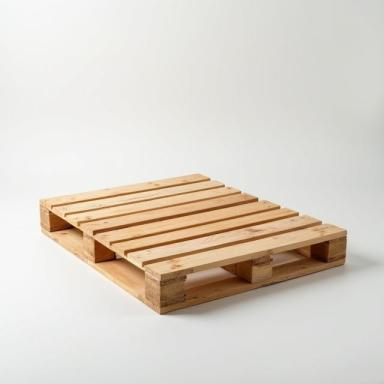pallet: (39, 173, 348, 315), (185, 267, 237, 290)
